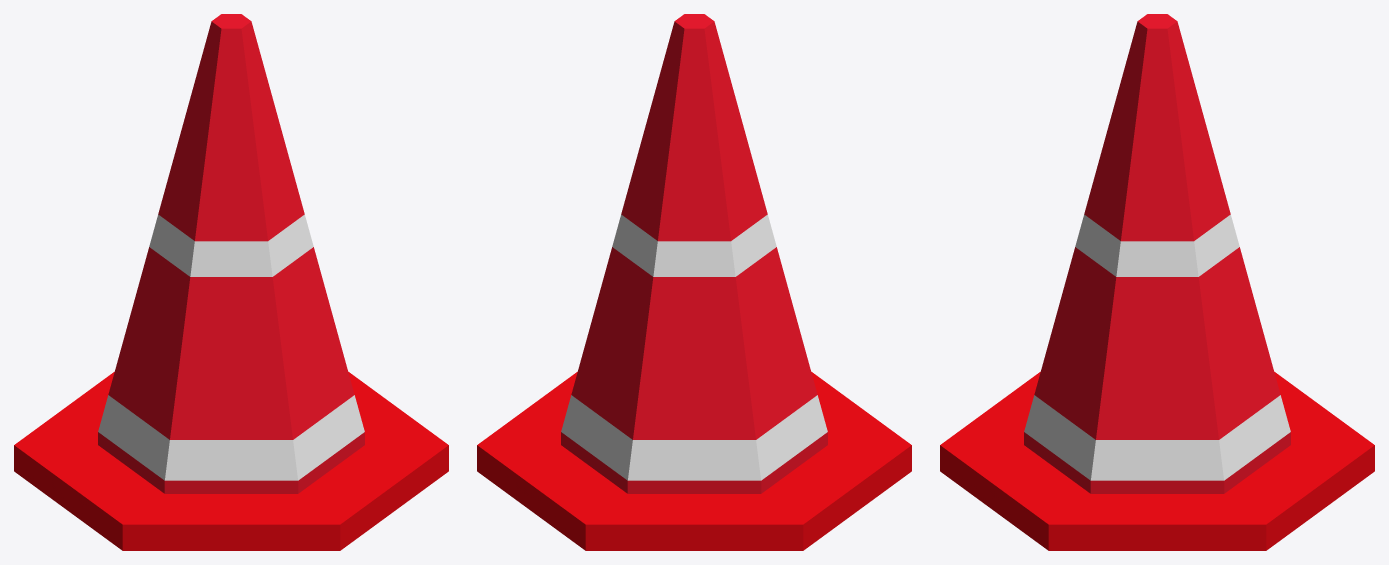
The model's file is Duba.fbx.
3 views of the same model, side by side, from view 1: azimuth 30°, elevation 25°; view 2: azimuth 150°, elevation 25°; view 3: azimuth 270°, elevation 25° (orthographic).
Visible parts, largest first — view 1: Circle.001, Circle, Circle.003; view 2: Circle.001, Circle, Circle.003; view 3: Circle.001, Circle, Circle.003.
Part boxes in pixels (<box>): Circle.001: <box>98,14,364,493</box>; Circle: <box>14,372,448,550</box>; Circle.003: <box>98,214,364,480</box>; Circle.001: <box>561,14,827,493</box>; Circle: <box>477,372,911,550</box>; Circle.003: <box>561,214,827,480</box>; Circle.001: <box>1024,14,1290,493</box>; Circle: <box>940,372,1374,550</box>; Circle.003: <box>1024,214,1290,480</box>.
Bounding box in the file's own units: 200 × 228 × 173.
